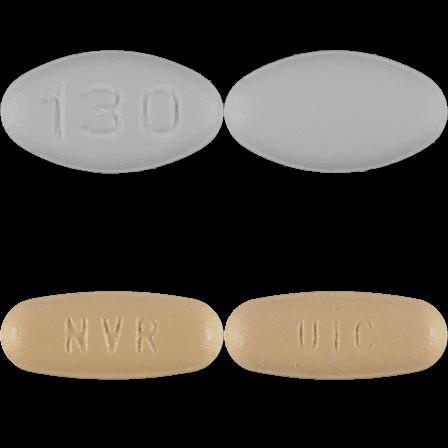54868-5801: (0, 0, 224, 224)
